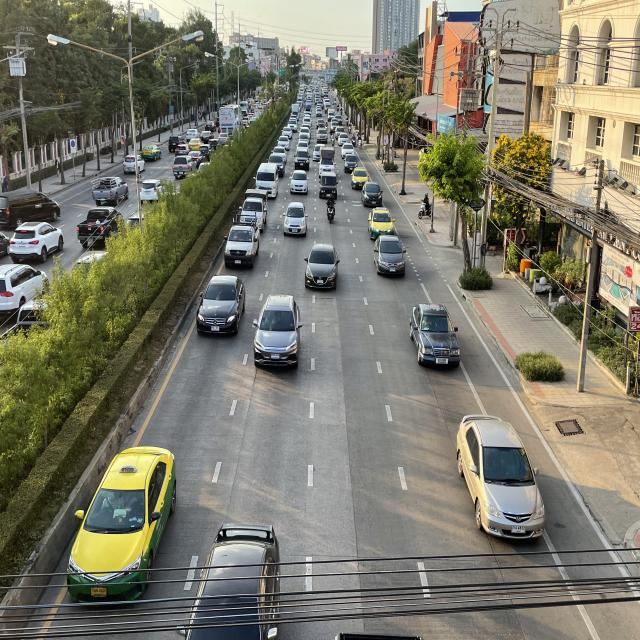bike: (325, 192, 336, 225)
car: (60, 440, 180, 608)
truck: (221, 211, 260, 273), (238, 188, 269, 233), (318, 146, 336, 180)
